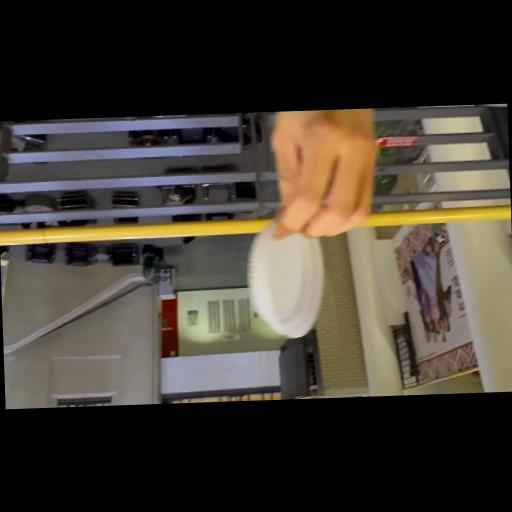lp_cup_lids: (244, 217, 328, 339)
